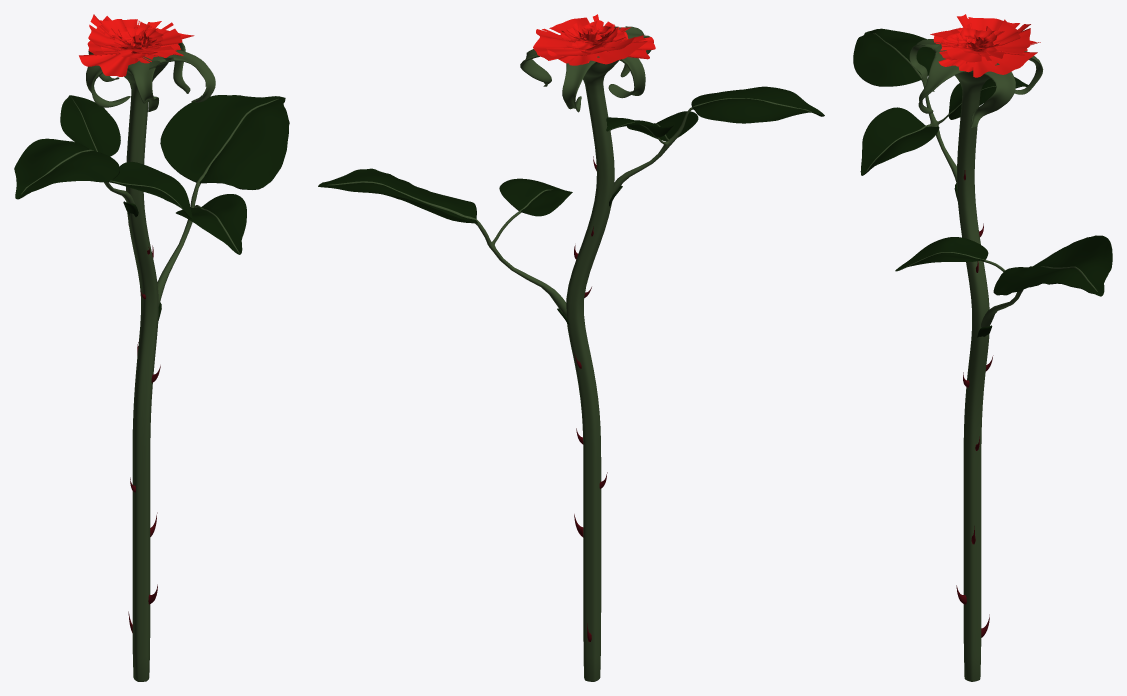
Rendered from Rose_Completed.fbx.
3 renders of one model, left to right at view 1: azimuth 30°, elevation 25°; view 2: azimuth 150°, elevation 25°; view 3: azimuth 270°, elevation 25°, orthographic.
Visible parts, largest first — view 1: ruža; view 2: ruža; view 3: ruža.
Part boxes in pixels (box(x1,y1,x2,y2)): ruža: box(14, 14, 289, 681); ruža: box(318, 14, 824, 681); ruža: box(853, 14, 1112, 681).
Bounding box in the file's own units: 52.63 × 84.73 × 30.84.
